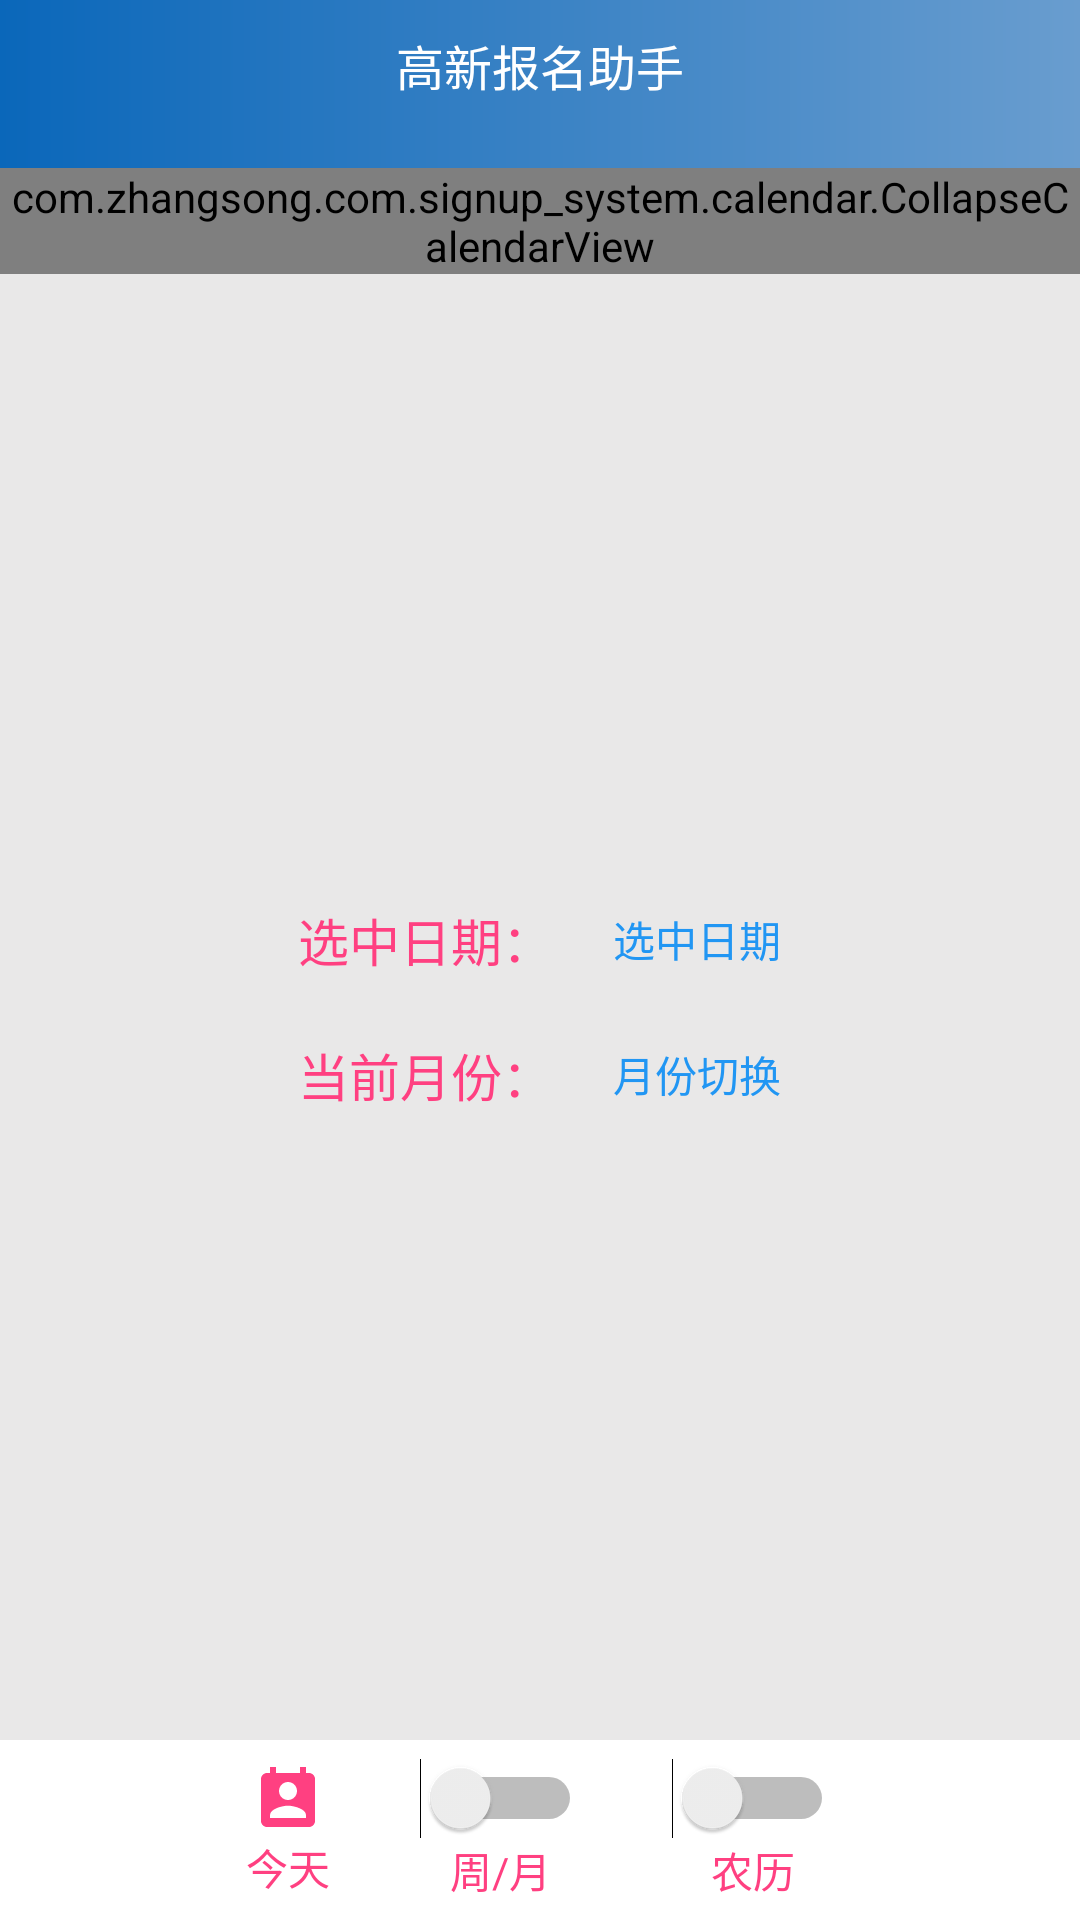

Icons on this 1080 x 1920 Android screen, each with its box as (x1, y1, x2, y2):
perm contact calendar: (261, 1767, 315, 1827)
